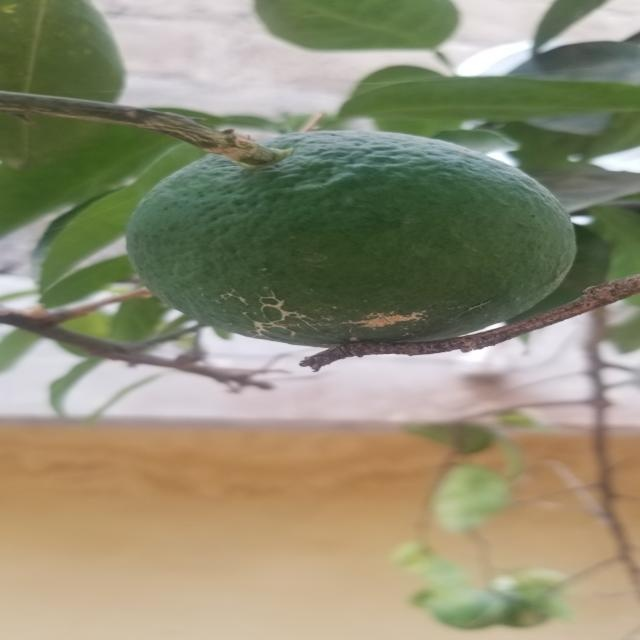agrume: (114, 134, 604, 369)
